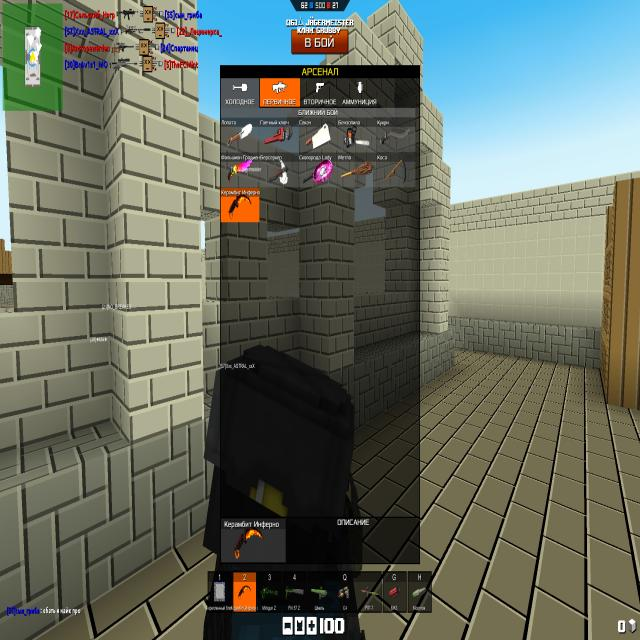player: (206, 345, 363, 640)
